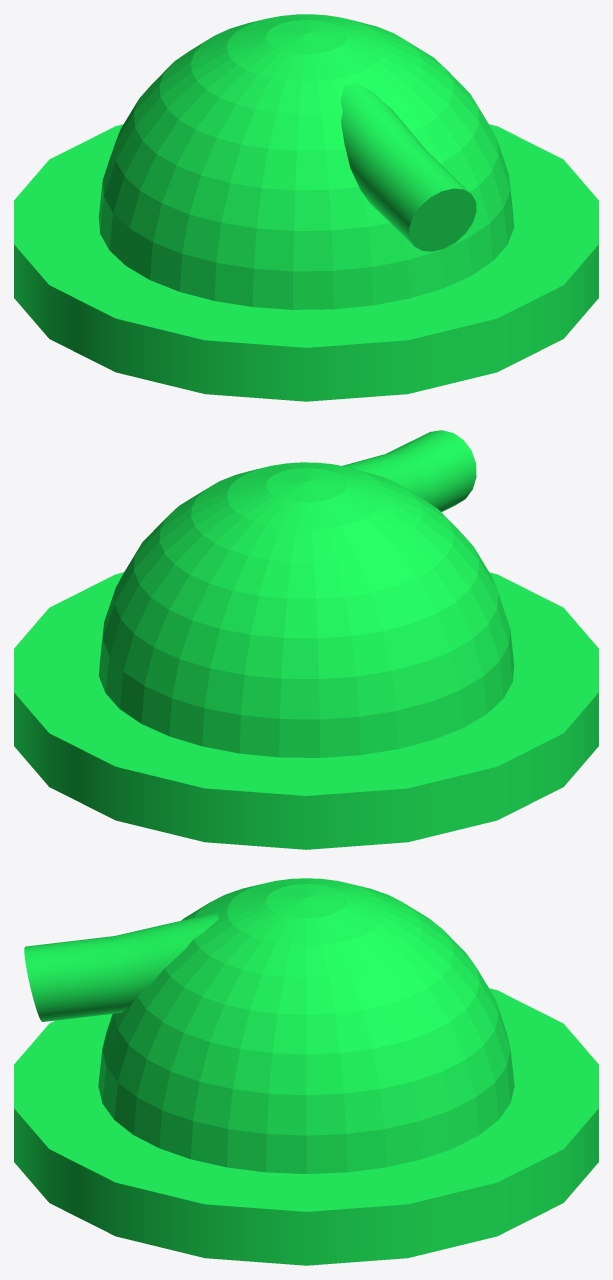
Rendered from TurretTemplate2.FBX.
3 views of the same model, one above another, from view 1: azimuth 30°, elevation 25°; view 2: azimuth 150°, elevation 25°; view 3: azimuth 270°, elevation 25° (orthographic).
Visible parts, largest first — view 1: Cylinder001; view 2: Cylinder001; view 3: Cylinder001.
Part boxes in pixels (x1,y1,x2,y2): Cylinder001: (14, 14, 598, 401); Cylinder001: (14, 430, 598, 849); Cylinder001: (14, 878, 598, 1265).
Size of the model in its own units: 10 by 4.51 by 9.85.
